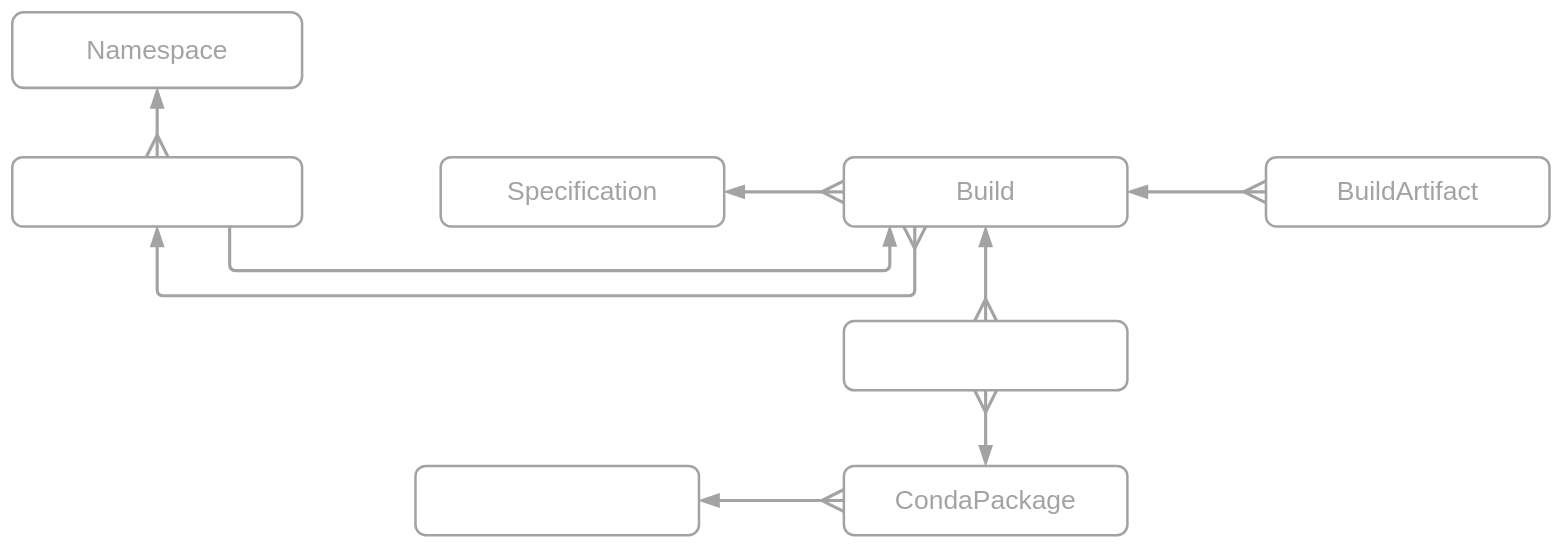
Some shapes in this 1561 by 547 pixel diagram are drawn without their labels. The shapes that lost their labels are listed below. From the top down, each one's centre as x and y in pixels, then its label:
the point at 157,191: Environment
the point at 985,355: Build_CondaPackage
the point at 557,500: CondaChannel
